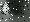person: (2, 4, 11, 15)
